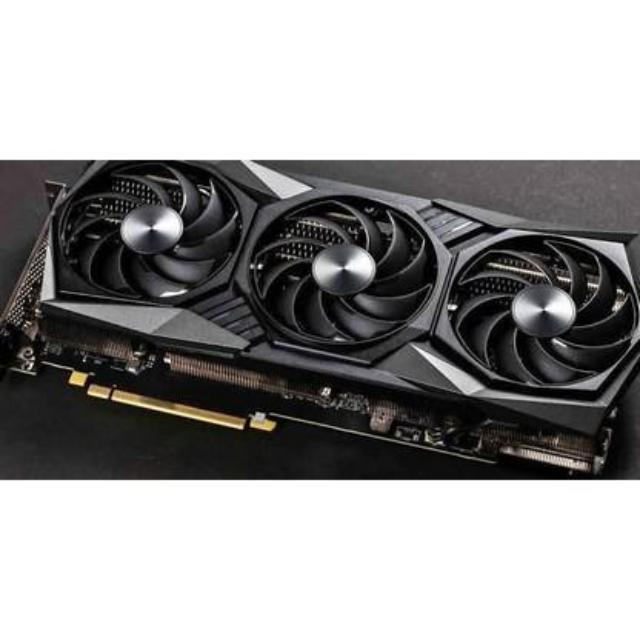GPU: (0, 132, 640, 486)
